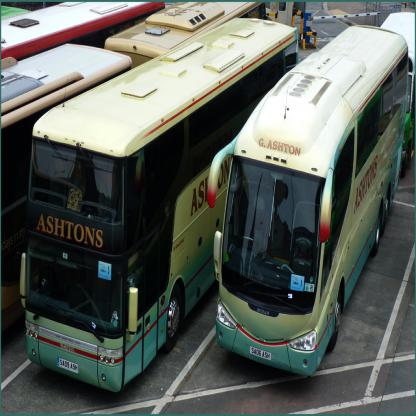Bus: (1, 0, 415, 393)
